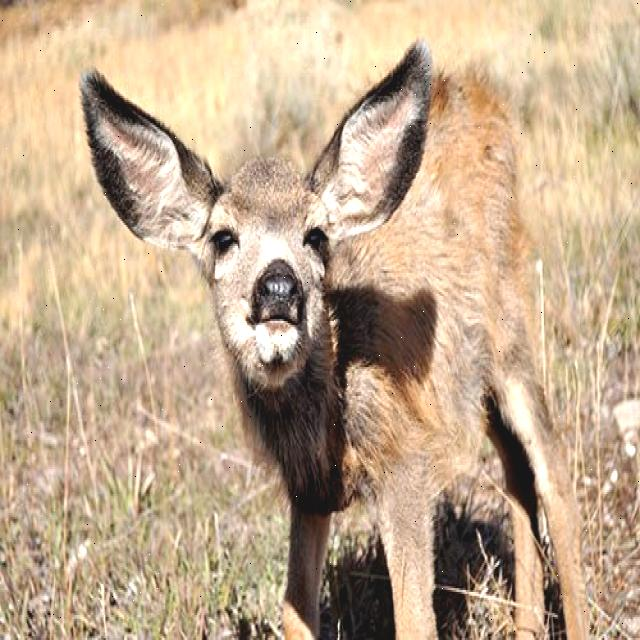deer: (78, 26, 448, 460)
